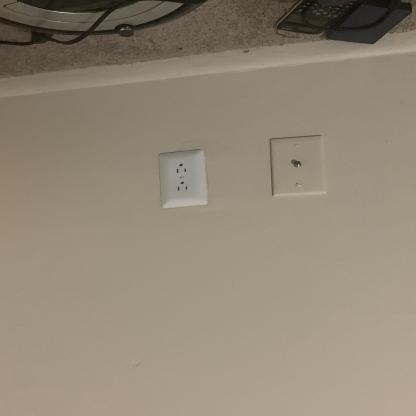OUTLET: (160, 150, 208, 209)
